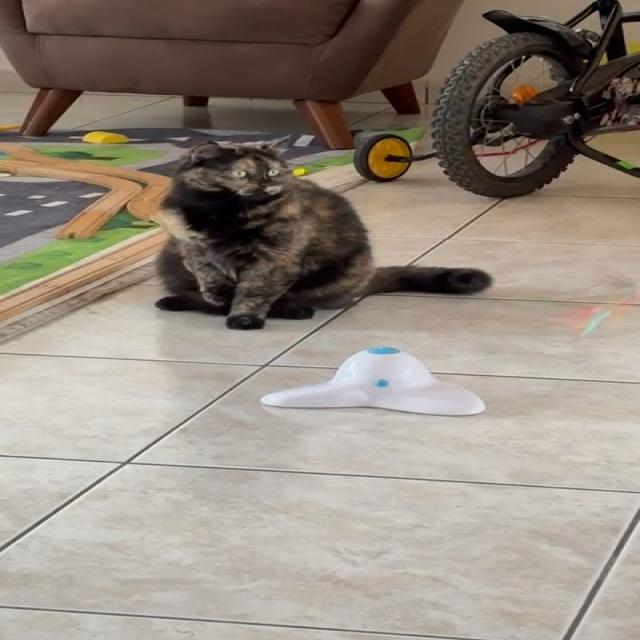authorized: (152, 133, 492, 330)
